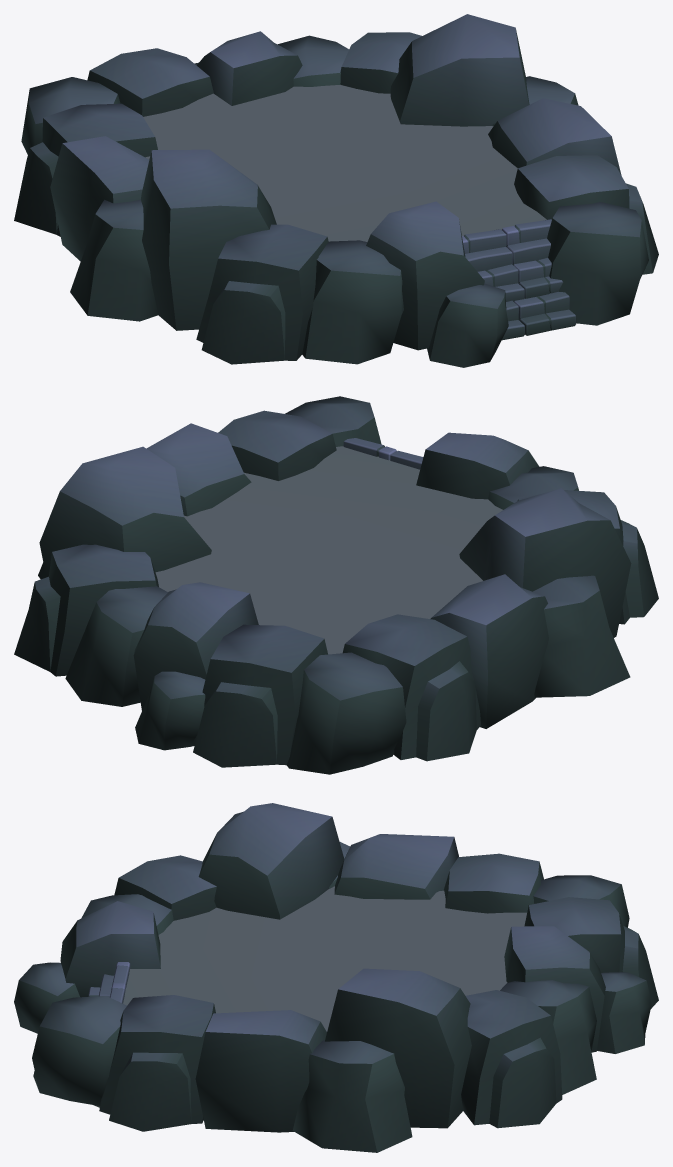
File: undead_mine_base.fbx
3 views of the same model, one above another, from view 1: azimuth 30°, elevation 25°; view 2: azimuth 150°, elevation 25°; view 3: azimuth 270°, elevation 25° (orthographic). The views are drawn at different scales.
Parts seen in each view (by area): view 1: undead_mine_base; view 2: undead_mine_base; view 3: undead_mine_base.
Boxes of the visible parts, x1=… form: undead_mine_base: x1=14, y1=14, x2=658, y2=367; undead_mine_base: x1=14, y1=396, x2=658, y2=774; undead_mine_base: x1=14, y1=803, x2=658, y2=1152.
Bounding box in the file's own units: 10.95 × 2.91 × 11.94.
